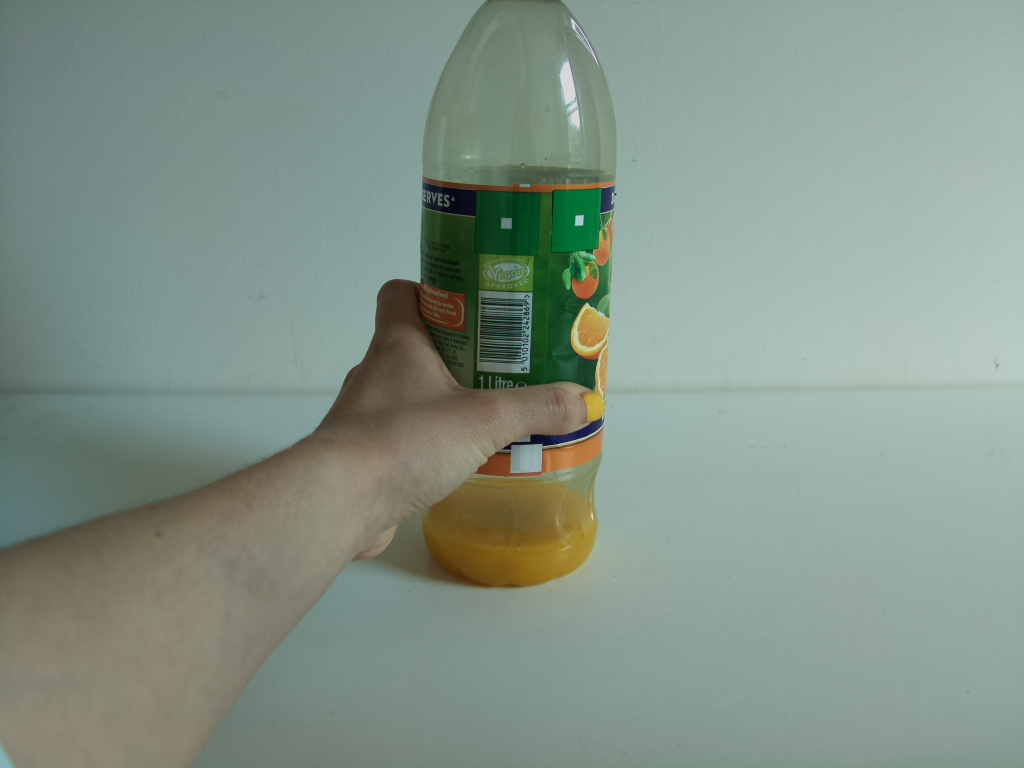juice: (417, 1, 619, 596)
